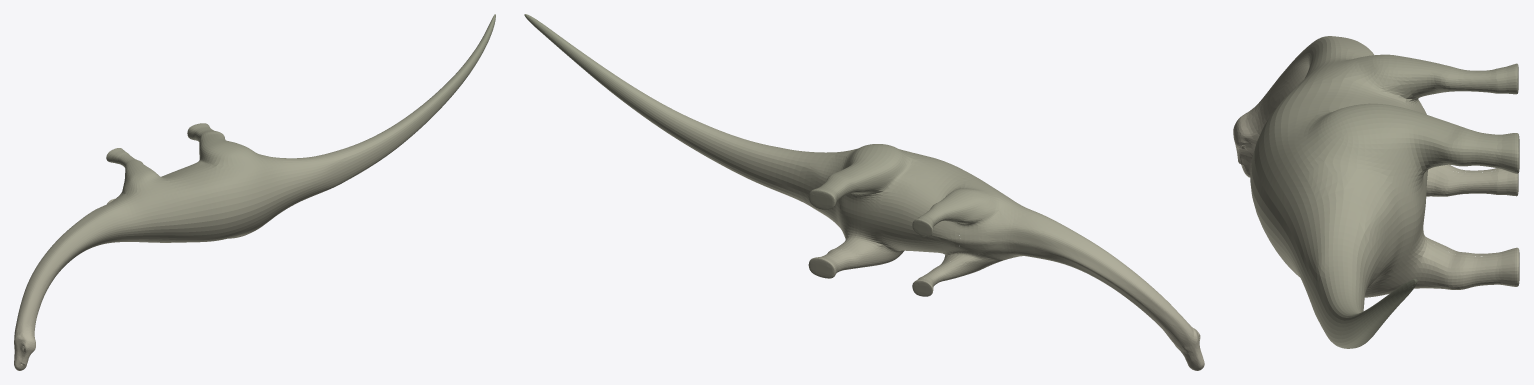
File: seismosaurus.glb
The picture shows the model from 3 angles, left to right: view 1: azimuth 30°, elevation 25°; view 2: azimuth 150°, elevation 25°; view 3: azimuth 270°, elevation 25°; orthographic projection. The views are drawn at different scales.
Visible parts, largest first — view 1: world; view 2: world; view 3: world.
Boxes of the visible parts, left/top/right/bottom form: world: left=14, top=14, right=495, bottom=370; world: left=524, top=14, right=1204, bottom=370; world: left=1233, top=36, right=1519, bottom=348.
Size of the model in its own units: 10 by 3.66 by 2.37.
